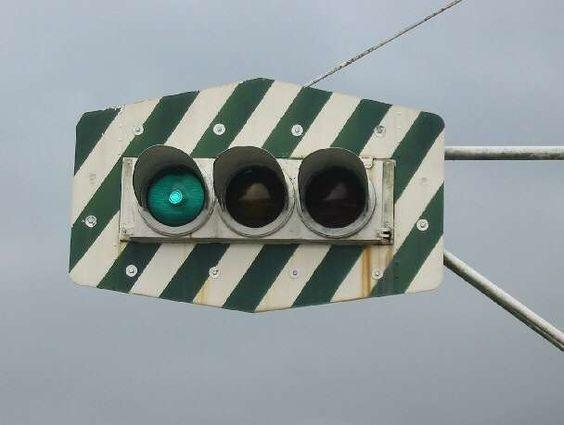green: (113, 131, 407, 261)
